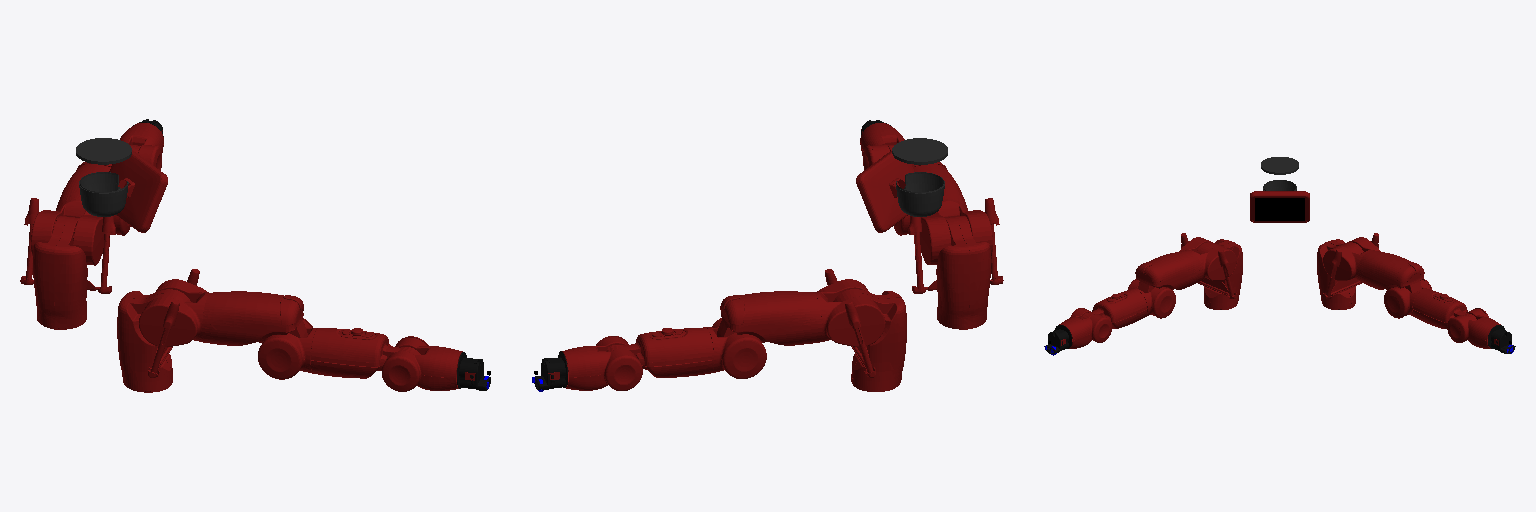
--- What the picture shows (computed from the rendered views, not written in the file) ---
The picture shows the robot from 3 angles, left to right: view 1: azimuth 30°, elevation 25°; view 2: azimuth 150°, elevation 25°; view 3: azimuth 270°, elevation 25°; orthographic projection.
Robot: baxter — 49 links, 48 joints (15 revolute, 33 fixed); root link base; default pose: every joint at zero.
Visible links, largest first — view 1: left_upper_shoulder, right_upper_elbow, right_upper_shoulder, right_upper_forearm, right_lower_forearm, right_lower_shoulder, screen, left_lower_shoulder, right_lower_elbow, head, sonar_ring, left_lower_forearm (+2 smaller); view 2: right_upper_shoulder, left_upper_elbow, left_upper_shoulder, left_upper_forearm, left_lower_forearm, left_lower_shoulder, screen, right_lower_shoulder, left_lower_elbow, head, sonar_ring, right_lower_forearm (+2 smaller); view 3: right_upper_elbow, left_upper_elbow, right_upper_shoulder, left_upper_shoulder, left_upper_forearm, right_upper_forearm, left_lower_forearm, right_lower_forearm, display, right_lower_shoulder, left_lower_shoulder, right_lower_elbow (+3 smaller).
Boxes of the visible links, x1,y1,x2,y2 form: left_upper_shoulder: [20, 198, 115, 329]; right_upper_elbow: [202, 291, 307, 345]; right_upper_shoulder: [117, 269, 199, 392]; right_upper_forearm: [311, 328, 420, 378]; right_lower_forearm: [382, 336, 462, 391]; right_lower_shoulder: [139, 279, 209, 347]; screen: [109, 150, 167, 232]; left_lower_shoulder: [31, 199, 104, 265]; right_lower_elbow: [258, 318, 317, 379]; head: [79, 172, 128, 216]; sonar_ring: [76, 138, 131, 164]; left_lower_forearm: [120, 123, 163, 170]; right_upper_shoulder: [908, 198, 1003, 329]; left_upper_elbow: [717, 291, 821, 345]; left_upper_shoulder: [825, 269, 906, 391]; left_upper_forearm: [604, 327, 713, 377]; left_lower_forearm: [562, 336, 642, 390]; left_lower_shoulder: [813, 279, 885, 346]; screen: [856, 151, 914, 232]; right_lower_shoulder: [920, 199, 992, 264]; left_lower_elbow: [706, 318, 766, 378]; head: [896, 172, 944, 216]; sonar_ring: [892, 138, 947, 164]; right_lower_forearm: [860, 123, 904, 169]; right_upper_elbow: [1135, 250, 1202, 292]; left_upper_elbow: [1357, 250, 1424, 292]; right_upper_shoulder: [1181, 233, 1242, 309]; left_upper_shoulder: [1317, 233, 1378, 309]; left_upper_forearm: [1412, 289, 1476, 328]; right_upper_forearm: [1080, 289, 1147, 328]; left_lower_forearm: [1447, 308, 1500, 348]; right_lower_forearm: [1059, 308, 1111, 348]; display: [1255, 198, 1304, 220]; right_lower_shoulder: [1179, 237, 1236, 280]; left_lower_shoulder: [1323, 237, 1380, 280]; right_lower_elbow: [1128, 279, 1175, 318].
Size in the robot's own frame: 0.8724 by 2.07 by 0.6706 metres.
16 mesh visuals loaded from 11 distinct referenced files (9 Collada DAE); not drawn: 2 (reference not matched to a file when rendering).

robot.urdf — baxter:
<?xml version="1.0" ?>
<!-- =================================================================================== -->
<!-- |    This document was autogenerated by xacro from baxter.urdf.xacro              | -->
<!-- |    EDITING THIS FILE BY HAND IS NOT RECOMMENDED                                 | -->
<!-- =================================================================================== -->
<robot name="baxter">
  <link name="base">
  </link>
  <link name="torso">
    <visual>
      <origin rpy="0 0 0" xyz="0 0 0"/>
      <geometry>
        <mesh filename="package://baxter_description/meshes/torso/base_link.DAE"/>
      </geometry>
    </visual>
    <collision>
      <origin rpy="0 0 0" xyz="0 0 0"/>
      <geometry>
        <mesh filename="package://baxter_description/meshes/torso/base_link_collision.DAE"/>
      </geometry>
    </collision>
    <inertial>
      <origin rpy="0 0 0" xyz="0.000000 0.000000 0.000000"/>
      <mass value="35.336455"/>
      <inertia ixx="1.849155" ixy="-0.000354" ixz="-0.154188" iyy="1.662671" iyz="0.003292" izz="0.802239"/>
    </inertial>
  </link>
  <link name="left_torso_itb">
    <!-- note: invisible -->
    <inertial>
      <origin rpy="0 0 0" xyz="0.000000 0.000000 0.000000"/>
      <mass value="0.0001"/>
      <inertia ixx="1e-08" ixy="0" ixz="0" iyy="1e-08" iyz="0" izz="1e-08"/>
    </inertial>
  </link>
  <link name="right_torso_itb">
    <!-- note: invisible -->
    <inertial>
      <origin rpy="0 0 0" xyz="0.000000 0.000000 0.000000"/>
      <mass value="0.0001"/>
      <inertia ixx="1e-08" ixy="0" ixz="0" iyy="1e-08" iyz="0" izz="1e-08"/>
    </inertial>
  </link>
  <link name="pedestal">
    <visual>
      <origin rpy="0 0 0" xyz="0 0 0"/>
      <geometry>
        <mesh filename="package://baxter_description/meshes/base/PEDESTAL.DAE"/>
      </geometry>
      <material name="darkgray">
        <color rgba=".2 .2 .2 1"/>
      </material>
    </visual>
    <collision>
      <origin rpy="0 0 0" xyz="0 0 0"/>
      <geometry>
        <mesh filename="package://baxter_description/meshes/base/pedestal_link_collision.DAE"/>
      </geometry>
    </collision>
    <inertial>
      <origin rpy="0 0 0" xyz="0 0 0"/>
      <mass value="60.86397744"/>
      <inertia ixx="5.0635929" ixy="0.00103417" ixz="0.80199628" iyy="6.08689388" iyz="0.00105311" izz="4.96191932"/>
    </inertial>
  </link>
  <link name="head">
    <visual>
      <origin rpy="0 0 0" xyz="0 0 .00953"/>
      <geometry>
        <mesh filename="package://baxter_description/meshes/head/H0.DAE"/>
      </geometry>
      <material name="darkgray">
        <color rgba=".2 .2 .2 1"/>
      </material>
    </visual>
    <collision>
      <origin rpy="0 0 0" xyz="0.0 0 0.0"/>
      <geometry>
        <sphere radius="0.001"/>
      </geometry>
    </collision>
    <inertial>
      <origin rpy="0 0 0" xyz="0 0 0"/>
      <mass value="0.547767"/>
      <inertia ixx="0.004641" ixy="0.000159" ixz="0.000242" iyy="0.003295" iyz="-0.001324" izz="0.003415"/>
    </inertial>
  </link>
  <link name="sonar_ring">
    <visual>
      <origin rpy="0 0 0" xyz="-.0347 0 .00953"/>
      <geometry>
        <cylinder length="0.01" radius="0.085"/>
      </geometry>
      <material name="darkgray">
        <color rgba=".2 .2 .2 1"/>
      </material>
    </visual>
    <collision>
      <origin rpy="0 0 0" xyz="0.0 0 0.0"/>
      <geometry>
        <sphere radius="0.001"/>
      </geometry>
    </collision>
    <inertial>
      <origin rpy="0 0 0" xyz="0 0 0"/>
      <mass value="0.0001"/>
      <inertia ixx="1e-08" ixy="0" ixz="0" iyy="1e-08" iyz="0" izz="1e-08"/>
    </inertial>
  </link>
  <link name="screen">
    <visual>
      <origin rpy="0 -1.57079632679 0" xyz="0 -.00953 -.0347"/>
      <geometry>
        <mesh filename="package://baxter_description/meshes/head/H1.DAE"/>
      </geometry>
      <material name="darkred">
        <color rgba=".5 .1 .1 1"/>
      </material>
    </visual>
    <collision>
      <origin rpy="0 0 0" xyz="0.0 0 0.0"/>
      <geometry>
        <sphere radius="0.001"/>
      </geometry>
    </collision>
    <inertial>
      <origin rpy="0 0 0" xyz="0 0 0"/>
      <mass value="0.440171"/>
      <inertia ixx="0.004006" ixy="0.000230" ixz="0.000002" iyy="0.002800" iyz="0.000029" izz="0.001509"/>
    </inertial>
  </link>
  <link name="display">
    <visual>
      <origin rpy="0.2617993877991494 0 0" xyz="0 0 0"/>
      <geometry>
        <box size="0.218 0.16 0.001"/>
      </geometry>
      <material name="black">
        <color rgba="0 0 0 1"/>
      </material>
    </visual>
    <inertial>
      <origin rpy="0 0 0" xyz="0 0 0"/>
      <mass value="0.0001"/>
      <inertia ixx="1e-08" ixy="0" ixz="0" iyy="1e-08" iyz="0" izz="1e-08"/>
    </inertial>
  </link>
  <link name="head_camera">
    <inertial>
      <origin rpy="0 0 0" xyz="0 0 0"/>
      <mass value="0.0001"/>
      <inertia ixx="1e-08" ixy="0" ixz="0" iyy="1e-08" iyz="0" izz="1e-08"/>
    </inertial>
  </link>
  <link name="dummyhead1">
    <inertial>
      <origin rpy="0 0 0" xyz="0 0 0"/>
      <mass value="0.0001"/>
      <inertia ixx="1e-08" ixy="0" ixz="0" iyy="1e-08" iyz="0" izz="1e-08"/>
    </inertial>
  </link>
  <link name="collision_head_link_1">
    <visual>
      <origin rpy="0 0 0" xyz="0 0 0"/>
      <geometry>
        <sphere radius="0.001"/>
      </geometry>
      <material name="red">
        <color rgba="0.8 0.3 0.3 0.3"/>
      </material>
    </visual>
    <collision>
      <origin rpy="0 0 0.0" xyz="-0.07 -0.04 0.0"/>
      <geometry>
        <sphere radius="0.22"/>
      </geometry>
    </collision>
    <inertial>
      <origin rpy="0 0 0" xyz="0 0 0"/>
      <mass value="0.0001"/>
      <inertia ixx="1e-08" ixy="0" ixz="0" iyy="1e-08" iyz="0" izz="1e-08"/>
    </inertial>
  </link>
  <link name="collision_head_link_2">
    <visual>
      <origin rpy="0 0 0" xyz="0 0 0"/>
      <geometry>
        <sphere radius="0.001"/>
      </geometry>
      <material name="red">
        <color rgba="0.8 0.3 0.3 0.3"/>
      </material>
    </visual>
    <collision>
      <origin rpy="0 0 0" xyz="-0.07 0.04 0.00"/>
      <geometry>
        <sphere radius="0.22"/>
      </geometry>
    </collision>
    <inertial>
      <origin rpy="0 0 0" xyz="0 0 0"/>
      <mass value="0.0001"/>
      <inertia ixx="1e-08" ixy="0" ixz="0" iyy="1e-08" iyz="0" izz="1e-08"/>
    </inertial>
  </link>
  <joint name="collision_head_1" type="fixed">
    <origin rpy="0 0 0" xyz="0.11 0 0.75"/>
    <parent link="base"/>
    <child link="collision_head_link_1"/>
  </joint>
  <joint name="collision_head_2" type="fixed">
    <origin rpy="0 0 0" xyz="0.11 0 0.75"/>
    <parent link="base"/>
    <child link="collision_head_link_2"/>
  </joint>
  <joint name="dummy" type="fixed">
    <origin rpy="0 0 0" xyz="0 0 0"/>
    <parent link="head"/>
    <child link="dummyhead1"/>
  </joint>
  <joint name="torso_t0" type="fixed">
    <origin rpy="0 0 0" xyz="0 0 0"/>
    <parent link="base"/>
    <child link="torso"/>
    <limit effort="50000" lower="-3.01" upper="3.01" velocity="10000"/>
  </joint>
  <joint name="left_torso_itb_fixed" type="fixed">
    <origin rpy="-1.57079632679 3.1415 0" xyz="-0.08897 0.15593 0.389125"/>
    <parent link="torso"/>
    <child link="left_torso_itb"/>
  </joint>
  <joint name="right_torso_itb_fixed" type="fixed">
    <origin rpy="1.57079632679 0 0" xyz="-0.08897 -0.15593 0.389125"/>
    <parent link="torso"/>
    <child link="right_torso_itb"/>
  </joint>
  <joint name="pedestal_fixed" type="fixed">
    <origin rpy="0 0 0" xyz="0.0 0.0 0.0"/>
    <parent link="torso"/>
    <child link="pedestal"/>
  </joint>
  <joint name="head_pan" type="revolute">
    <origin rpy="0 0 0" xyz="0.06 0 0.686"/>
    <axis xyz="0 0 1"/>
    <parent link="torso"/>
    <child link="head"/>
    <limit effort="50000" lower="-1.57079632679" upper="1.57079632679" velocity="10000"/>
    <dynamics damping="0.7" friction="0.0"/>
  </joint>
  <joint name="head_nod" type="fixed">
    <origin rpy="1.75057 0 1.57079632679" xyz=".1227 0 0"/>
    <parent link="head"/>
    <child link="screen"/>
  </joint>
  <joint name="head_camera" type="fixed">
    <origin rpy="1.75057 0 1.57079632679" xyz="0.12839 0 0.06368"/>
    <parent link="head"/>
    <child link="head_camera"/>
  </joint>
  <joint name="display_joint" type="fixed">
    <origin rpy="0 0 0" xyz="0.0 -0.016 0.0"/>
    <parent link="screen"/>
    <child link="display"/>
  </joint>
  <joint name="sonar_s0" type="fixed">
    <origin rpy="0 0 0" xyz="0.0947 0 .817"/>
    <axis xyz="0 0 1"/>
    <parent link="torso"/>
    <child link="sonar_ring"/>
  </joint>
  <link name="right_arm_mount">
    <!-- all defaults -->
    <inertial>
      <origin rpy="0 0 0" xyz="0 0 0"/>
      <mass value="0.0001"/>
      <inertia ixx="1e-08" ixy="0" ixz="0" iyy="1e-08" iyz="0" izz="1e-08"/>
    </inertial>
  </link>
  <link name="right_upper_shoulder">
    <visual>
      <origin rpy="0 0 0" xyz="0 0 0"/>
      <geometry>
        <mesh filename="package://baxter_description/meshes/upper_shoulder/S0.DAE"/>
      </geometry>
      <material name="darkred">
        <color rgba=".5 .1 .1 1"/>
      </material>
    </visual>
    <collision>
      <origin rpy="0 0 0" xyz="0 0 0.1361"/>
      <geometry>
        <cylinder length="0.2722" radius="0.06"/>
      </geometry>
    </collision>
    <inertial>
      <origin rpy="0 0 0" xyz="0.01783 0.00086 0.19127"/>
      <mass value="5.70044"/>
      <inertia ixx="0.04709102262" ixy="0.00012787556" ixz="0.00614870039" iyy="0.03766976455" iyz="0.00078086899" izz="0.03595988478"/>
    </inertial>
  </link>
  <link name="right_lower_shoulder">
    <visual>
      <origin rpy="0 0 0" xyz="0 0 0"/>
      <geometry>
        <mesh filename="package://baxter_description/meshes/lower_shoulder/S1.DAE"/>
      </geometry>
      <material name="darkred">
        <color rgba=".5 .1 .1 1"/>
      </material>
    </visual>
    <collision>
      <origin rpy="0 0 0" xyz="0 0 0"/>
      <geometry>
        <cylinder length="0.12" radius="0.06"/>
      </geometry>
    </collision>
    <inertial>
      <origin rpy="0 0 0" xyz="0.06845 0.00269 -0.00529"/>
      <mass value="3.22698"/>
      <inertia ixx="0.01175209419" ixy="-0.00030096398" ixz="0.00207675762" iyy="0.0278859752" iyz="-0.00018821993" izz="0.02078749298"/>
    </inertial>
  </link>
  <link name="right_upper_elbow">
    <visual>
      <origin rpy="0 0 0" xyz="0 0 0"/>
      <geometry>
        <mesh filename="package://baxter_description/meshes/upper_elbow/E0.DAE"/>
      </geometry>
      <material name="darkred">
        <color rgba=".5 .1 .1 1"/>
      </material>
    </visual>
    <collision>
      <origin rpy="0 0 0" xyz="0 0 -0.0535"/>
      <geometry>
        <cylinder length="0.107" radius="0.06"/>
      </geometry>
    </collision>
    <inertial>
      <origin rpy="0 0 0" xyz="-0.00276 0.00132 0.18086"/>
      <mass value="4.31272"/>
      <inertia ixx="0.02661733557" ixy="0.00029270634" ixz="0.00392189887" iyy="0.02844355207" iyz="0.0010838933" izz="0.01248008322"/>
    </inertial>
  </link>
  <link name="right_upper_elbow_visual">
    <collision>
      <origin rpy="0 0 0" xyz="0 0 0.1365"/>
      <geometry>
        <cylinder length="0.273" radius="0.06"/>
      </geometry>
    </collision>
    <inertial>
      <origin rpy="0 0 0" xyz="0 0 0"/>
      <mass value="0.0001"/>
      <inertia ixx="1e-08" ixy="0" ixz="0" iyy="1e-08" iyz="0" izz="1e-08"/>
    </inertial>
  </link>
  <link name="right_lower_elbow">
    <visual>
      <origin rpy="0 0 0" xyz="0 0 0"/>
      <geometry>
        <mesh filename="package://baxter_description/meshes/lower_elbow/E1.DAE"/>
      </geometry>
      <material name="darkred">
        <color rgba=".5 .1 .1 1"/>
      </material>
    </visual>
    <collision>
      <origin rpy="0 0 0" xyz="0.0 0.0 0.0"/>
      <geometry>
        <cylinder length="0.10" radius="0.06"/>
      </geometry>
    </collision>
    <inertial>
      <origin rpy="0 0 0" xyz="0.02611 0.00159 -0.01117"/>
      <mass value="2.07206"/>
      <inertia ixx="0.00711582686" ixy="0.00036036173" ixz="0.0007459496" iyy="0.01318227876" iyz="-0.00019663418" izz="0.00926852064"/>
    </inertial>
  </link>
  <link name="right_upper_forearm">
    <visual>
      <origin rpy="0 0 0" xyz="0 0 0"/>
      <geometry>
        <mesh filename="package://baxter_description/meshes/upper_forearm/W0.DAE"/>
      </geometry>
      <material name="darkred">
        <color rgba=".5 .1 .1 1"/>
      </material>
    </visual>
    <collision>
      <origin rpy="0 0 0" xyz="0 0 -0.044"/>
      <geometry>
        <cylinder length="0.088" radius="0.06"/>
      </geometry>
    </collision>
    <inertial>
      <origin rpy="0 0 0" xyz="-0.00168 0.0046 0.13952"/>
      <mass value="2.24665"/>
      <inertia ixx="0.01667742825" ixy="0.00018403705" ixz="0.00018657629" iyy="0.01675457264" iyz="-0.00064732352" izz="0.0037463115"/>
    </inertial>
  </link>
  <link name="right_upper_forearm_visual">
    <collision>
      <origin rpy="0 0 0" xyz="0 0 0.136"/>
      <geometry>
        <cylinder length="0.272" radius="0.06"/>
      </geometry>
    </collision>
    <inertial>
      <origin rpy="0 0 0" xyz="0 0 0"/>
      <mass value="0.0001"/>
      <inertia ixx="1e-08" ixy="0" ixz="0" iyy="1e-08" iyz="0" izz="1e-08"/>
    </inertial>
  </link>
  <link name="right_arm_itb">
    <!-- note: invisible -->
    <inertial>
      <origin rpy="0 0 0" xyz="0.000000 0.000000 0.000000"/>
      <mass value="0.0001"/>
      <inertia ixx="1e-08" ixy="0" ixz="0" iyy="1e-08" iyz="0" izz="1e-08"/>
    </inertial>
  </link>
  <link name="right_lower_forearm">
    <visual>
      <origin rpy="0 0 0" xyz="0 0 0"/>
      <geometry>
        <mesh filename="package://baxter_description/meshes/lower_forearm/W1.DAE"/>
      </geometry>
      <material name="darkred">
        <color rgba=".5 .1 .1 1"/>
      </material>
    </visual>
    <collision>
      <origin rpy="0 0 0" xyz="0 0 0"/>
      <geometry>
        <cylinder length="0.10" radius="0.06"/>
      </geometry>
    </collision>
    <inertial>
      <origin rpy="0 0 0" xyz="0.06041 0.00697 0.006"/>
      <mass value="1.60979"/>
      <inertia ixx="0.00387607152" ixy="-0.00044384784" ixz="-0.00021115038" iyy="0.00700537914" iyz="0.00015348067" izz="0.0055275524"/>
    </inertial>
  </link>
  <link name="right_wrist">
    <visual>
      <origin rpy="0 0 0" xyz="0 0 0"/>
      <geometry>
        <mesh filename="package://baxter_description/meshes/wrist/W2.DAE"/>
      </geometry>
      <material name="lightgrey">
        <color rgba=".1 .1 .1 1"/>
      </material>
    </visual>
    <collision>
      <origin rpy="0 0 0" xyz="0 0 0"/>
      <geometry>
        <cylinder length="0.165" radius="0.06"/>
      </geometry>
    </collision>
    <inertial>
      <origin rpy="0 0 0" xyz="0.00198 0.00125 0.01855"/>
      <mass value="0.35093"/>
      <inertia ixx="0.00025289155" ixy="0.00000575311" ixz="-0.00000159345" iyy="0.0002688601" iyz="-0.00000519818" izz="0.0003074118"/>
    </inertial>
  </link>
  <link name="right_hand">
    <collision>
      <origin rpy="0 0 0" xyz="0 0 -0.0232"/>
      <geometry>
        <cylinder length="0.0464" radius="0.04"/>
      </geometry>
    </collision>
    <inertial>
      <origin rpy="0 0 0" xyz="0.01093 0.00042 -0.01532"/>
      <mass value="0.19125"/>
      <inertia ixx="0.00017588" ixy="0.00000147073" ixz="0.0000243633" iyy="0.00021166377" iyz="0.00000172689" izz="0.00023745397"/>
    </inertial>
  </link>
  <link name="right_hand_camera">
    <visual>
      <origin rpy="0 0 0" xyz="0 0 0"/>
      <geometry>
        <cylinder length="0.01" radius="0.02"/>
      </geometry>
      <material name="blue">
        <color rgba="0 0 1 0.8"/>
      </material>
    </visual>
    <inertial>
      <origin rpy="0 0 0" xyz="0 0 0"/>
      <mass value="0.0001"/>
      <inertia ixx="1e-08" ixy="0" ixz="0" iyy="1e-08" iyz="0" izz="1e-08"/>
    </inertial>
  </link>
  <link name="right_hand_camera_axis">
    <inertial>
      <origin rpy="0 0 0" xyz="0 0 0"/>
      <mass value="0.0001"/>
      <inertia ixx="1e-08" ixy="0" ixz="0" iyy="1e-08" iyz="0" izz="1e-08"/>
    </inertial>
  </link>
  <link name="right_hand_range">
    <visual>
      <origin rpy="0 0 0" xyz="0 0 0"/>
      <geometry>
        <box size="0.005 .02 .005"/>
      </geometry>
      <material name="blue">
        <color rgba="0 0 1 0.8"/>
      </material>
    </visual>
    <inertial>
      <origin rpy="0 0 0" xyz="0 0 0"/>
      <mass value="0.0001"/>
      <inertia ixx="1e-08" ixy="0" ixz="0" iyy="1e-08" iyz="0" izz="1e-08"/>
    </inertial>
  </link>
  <link name="right_hand_accelerometer">
    <visual>
      <origin rpy="0 0 0" xyz="0 0 0"/>
      <geometry>
        <box size="0.01 0.01 0.01"/>
      </geometry>
      <material name="black">
        <color rgba="0 0 0 1"/>
      </material>
    </visual>
    <inertial>
      <origin rpy="0 0 0" xyz="0.000000 0.000000 0.000000"/>
      <mass value="0.0001"/>
      <inertia ixx="1e-08" ixy="0" ixz="0" iyy="1e-08" iyz="0" izz="1e-08"/>
    </inertial>
  </link>
  <link name="right_gripper_base">
    <visual>
      <origin rpy="0 0 0" xyz="0 0 -0.02"/>
      <geometry>
        <box size="0.025 0.075 0.035"/>
      </geometry>
      <material name="darkred">
        <color rgba=".5 .1 .1 1"/>
      </material>
    </visual>
    <inertial>
      <origin rpy="0 0 0" xyz="0.000000 0.000000 0.000000"/>
      <mass value="0.0001"/>
      <inertia ixx="1e-08" ixy="0" ixz="0" iyy="1e-08" iyz="0" izz="1e-08"/>
    </inertial>
  </link>
  <link name="right_gripper">
    <visual>
      <origin rpy="0 0 0" xyz="0 0 0"/>
      <geometry>
        <box size="0.01 0.01 0.01"/>
      </geometry>
      <material name="black">
        <color rgba="0 0 0 1"/>
      </material>
    </visual>
    <inertial>
      <origin rpy="0 0 0" xyz="0.000000 0.000000 0.000000"/>
      <mass value="0.0001"/>
      <inertia ixx="1e-08" ixy="0" ixz="0" iyy="1e-08" iyz="0" izz="1e-08"/>
    </inertial>
  </link>
  <joint name="right_torso_arm_mount" type="fixed">
    <origin rpy="0 0 -0.7854" xyz="0.024645 -0.219645 0.118588"/>
    <parent link="torso"/>
    <child link="right_arm_mount"/>
  </joint>
  <joint name="right_s0" type="revolute">
    <origin rpy="0 0 0" xyz="0.055695 0 0.011038"/>
    <axis xyz="0 0 1"/>
    <parent link="right_arm_mount"/>
    <child link="right_upper_shoulder"/>
    <limit effort="50.0" lower="-1.70167993878" upper="1.70167993878" velocity="1.5"/>
    <dynamics damping="0.7" friction="0.0"/>
  </joint>
  <joint name="right_s1" type="revolute">
    <origin rpy="-1.57079632679 0 0" xyz="0.069 0 0.27035"/>
    <axis xyz="0 0 1"/>
    <parent link="right_upper_shoulder"/>
    <child link="right_lower_shoulder"/>
    <limit effort="50.0" lower="-2.147" upper="1.047" velocity="1.5"/>
    <dynamics damping="0.7" friction="0.0"/>
  </joint>
  <joint name="right_e0" type="revolute">
    <origin rpy="1.57079632679 0 1.57079632679" xyz="0.102 0 0"/>
    <axis xyz="0 0 1"/>
    <parent link="right_lower_shoulder"/>
    <child link="right_upper_elbow"/>
    <limit effort="50.0" lower="-3.05417993878" upper="3.05417993878" velocity="1.5"/>
    <dynamics damping="0.7" friction="0.0"/>
  </joint>
  <joint name="right_e0_fixed" type="fixed">
    <origin rpy="1.57079632679 0 1.57079632679" xyz="0.107 0 0"/>
    <axis xyz="0 0 1"/>
    <parent link="right_lower_shoulder"/>
    <child link="right_upper_elbow_visual"/>
  </joint>
  <joint name="right_e1" type="revolute">
    <origin rpy="-1.57079632679 -1.57079632679 0" xyz="0.069 0 0.26242"/>
    <axis xyz="0 0 1"/>
    <parent link="right_upper_elbow"/>
    <child link="right_lower_elbow"/>
    <limit effort="50.0" lower="-0.05" upper="2.618" velocity="1.5"/>
    <dynamics damping="0.7" friction="0.0"/>
  </joint>
  <joint name="right_w0" type="revolute">
    <origin rpy="1.57079632679 0 1.57079632679" xyz="0.10359 0 0"/>
    <axis xyz="0 0 1"/>
    <parent link="right_lower_elbow"/>
    <child link="right_upper_forearm"/>
    <limit effort="15.0" lower="-3.059" upper="3.059" velocity="4.0"/>
    <dynamics damping="0.7" friction="0.0"/>
  </joint>
  <joint name="right_w0_fixed" type="fixed">
    <origin rpy="1.57079632679 0 1.57079632679" xyz="0.088 0 0"/>
    <axis xyz="0 0 1"/>
    <parent link="right_lower_elbow"/>
    <child link="right_upper_forearm_visual"/>
  </joint>
  <joint name="right_w0_to_itb_fixed" type="fixed">
    <origin rpy="-1.57079632679 0 1.57079632679" xyz="-0.0565 0 0.12"/>
    <axis xyz="0 0 1"/>
    <parent link="right_upper_forearm"/>
    <child link="right_arm_itb"/>
  </joint>
  <joint name="right_w1" type="revolute">
    <origin rpy="-1.57079632679 -1.57079632679 0" xyz="0.01 0 0.2707"/>
    <axis xyz="0 0 1"/>
    <parent link="right_upper_forearm"/>
    <child link="right_lower_forearm"/>
    <limit effort="15.0" lower="-1.57079632679" upper="2.094" velocity="4.0"/>
    <dynamics damping="0.7" friction="0.0"/>
  </joint>
  <joint name="right_w2" type="revolute">
    <origin rpy="1.57079632679 0 1.57079632679" xyz="0.115975 0 0"/>
    <axis xyz="0 0 1"/>
    <parent link="right_lower_forearm"/>
    <child link="right_wrist"/>
    <limit effort="15.0" lower="-3.059" upper="3.059" velocity="4.0"/>
    <dynamics damping="0.7" friction="0.0"/>
  </joint>
  <joint name="right_hand" type="fixed">
    <origin rpy="0 0 0" xyz="0 0 0.11355"/>
    <axis xyz="0 0 1"/>
    <parent link="right_wrist"/>
    <child link="right_hand"/>
    <dynamics damping="0.7" friction="0.0"/>
  </joint>
  <joint name="right_hand_camera" type="fixed">
    <origin rpy="0 0 -1.57079633" xyz="0.03825 0.012 0.015355"/>
    <parent link="right_hand"/>
    <child link="right_hand_camera"/>
  </joint>
  <joint name="right_hand_camera_axis" type="fixed">
    <origin rpy="0 0 0" xyz="0.03825 0.012 0.015355"/>
    <parent link="right_hand"/>
    <child link="right_hand_camera_axis"/>
  </joint>
  <joint name="right_hand_range" type="fixed">
    <origin rpy="0 -1.57079632679 -1.57079632679" xyz="0.032 -0.020245 0.0288"/>
    <parent link="right_hand"/>
    <child link="right_hand_range"/>
  </joint>
  <joint name="right_hand_accelerometer" type="fixed">
    <origin rpy="0 0 0" xyz="0.00198 0.000133 -0.0146"/>
    <parent link="right_hand"/>
    <child link="right_hand_accelerometer"/>
  </joint>
  <joint name="right_gripper_base" type="fixed">
    <origin rpy="0 0 0" xyz="0 0 0"/>
    <parent link="right_hand"/>
    <child link="right_gripper_base"/>
  </joint>
  <joint name="right_endpoint" type="fixed">
    <origin rpy="0 0 0" xyz="0.0 0 0.025"/>
    <parent link="right_gripper_base"/>
    <child link="right_gripper"/>
  </joint>
  <link name="left_arm_mount">
    <!-- all defaults -->
    <inertial>
      <origin rpy="0 0 0" xyz="0 0 0"/>
      <mass value="0.0001"/>
      <inertia ixx="1e-08" ixy="0" ixz="0" iyy="1e-08" iyz="0" izz="1e-08"/>
    </inertial>
  </link>
  <link name="left_upper_shoulder">
    <visual>
      <origin rpy="0 0 0" xyz="0 0 0"/>
      <geometry>
        <mesh filename="package://baxter_description/meshes/upper_shoulder/S0.DAE"/>
      </geometry>
      <material name="darkred">
        <color rgba=".5 .1 .1 1"/>
      </material>
    </visual>
    <collision>
      <origin rpy="0 0 0" xyz="0 0 0.1361"/>
      <geometry>
        <cylinder length="0.2722" radius="0.06"/>
      </geometry>
    </collision>
    <inertial>
      <origin rpy="0 0 0" xyz="0.01783 0.00086 0.19127"/>
      <mass value="5.70044"/>
      <inertia ixx="0.04709102262" ixy="0.00012787556" ixz="0.00614870039" iyy="0.03766976455" iyz="0.00078086899" izz="0.03595988478"/>
    </inertial>
  </link>
  <link name="left_lower_shoulder">
    <visual>
      <origin rpy="0 0 0" xyz="0 0 0"/>
      <geometry>
        <mesh filename="package://baxter_description/meshes/lower_shoulder/S1.DAE"/>
      </geometry>
      <material name="darkred">
        <color rgba=".5 .1 .1 1"/>
      </material>
    </visual>
    <collision>
      <origin rpy="0 0 0" xyz="0 0 0"/>
      <geometry>
        <cylinder length="0.12" radius="0.06"/>
      </geometry>
    </collision>
    <inertial>
      <origin rpy="0 0 0" xyz="0.06845 0.00269 -0.00529"/>
      <mass value="3.22698"/>
      <inertia ixx="0.01175209419" ixy="-0.00030096398" ixz="0.00207675762" iyy="0.0278859752" iyz="-0.00018821993" izz="0.02078749298"/>
    </inertial>
  </link>
  <link name="left_upper_elbow">
    <visual>
      <origin rpy="0 0 0" xyz="0 0 0"/>
      <geometry>
        <mesh filename="package://baxter_description/meshes/upper_elbow/E0.DAE"/>
      </geometry>
      <material name="darkred">
        <color rgba=".5 .1 .1 1"/>
      </material>
    </visual>
    <collision>
      <origin rpy="0 0 0" xyz="0 0 -0.0535"/>
      <geometry>
        <cylinder length="0.107" radius="0.06"/>
      </geometry>
    </collision>
    <inertial>
      <origin rpy="0 0 0" xyz="-0.00276 0.00132 0.18086"/>
      <mass value="4.31272"/>
      <inertia ixx="0.02661733557" ixy="0.00029270634" ixz="0.00392189887" iyy="0.02844355207" iyz="0.0010838933" izz="0.01248008322"/>
    </inertial>
  </link>
  <link name="left_upper_elbow_visual">
    <collision>
      <origin rpy="0 0 0" xyz="0 0 0.1365"/>
      <geometry>
        <cylinder length="0.273" radius="0.06"/>
      </geometry>
    </collision>
    <inertial>
      <origin rpy="0 0 0" xyz="0 0 0"/>
      <mass value="0.0001"/>
      <inertia ixx="1e-08" ixy="0" ixz="0" iyy="1e-08" iyz="0" izz="1e-08"/>
    </inertial>
  </link>
  <link name="left_lower_elbow">
    <visual>
      <origin rpy="0 0 0" xyz="0 0 0"/>
      <geometry>
        <mesh filename="package://baxter_description/meshes/lower_elbow/E1.DAE"/>
      </geometry>
      <material name="darkred">
        <color rgba=".5 .1 .1 1"/>
      </material>
    </visual>
    <collision>
      <origin rpy="0 0 0" xyz="0.0 0.0 0.0"/>
      <geometry>
        <cylinder length="0.10" radius="0.06"/>
      </geometry>
    </collision>
    <inertial>
      <origin rpy="0 0 0" xyz="0.02611 0.00159 -0.01117"/>
      <mass value="2.07206"/>
      <inertia ixx="0.00711582686" ixy="0.00036036173" ixz="0.0007459496" iyy="0.01318227876" iyz="-0.00019663418" izz="0.00926852064"/>
    </inertial>
  </link>
  <link name="left_upper_forearm">
    <visual>
      <origin rpy="0 0 0" xyz="0 0 0"/>
      <geometry>
        <mesh filename="package://baxter_description/meshes/upper_forearm/W0.DAE"/>
      </geometry>
      <material name="darkred">
        <color rgba=".5 .1 .1 1"/>
      </material>
    </visual>
    <collision>
      <origin rpy="0 0 0" xyz="0 0 -0.044"/>
      <geometry>
        <cylinder length="0.088" radius="0.06"/>
      </geometry>
    </collision>
    <inertial>
      <origin rpy="0 0 0" xyz="-0.00168 0.0046 0.13952"/>
      <mass value="2.24665"/>
      <inertia ixx="0.01667742825" ixy="0.00018403705" ixz="0.00018657629" iyy="0.01675457264" iyz="-0.00064732352" izz="0.0037463115"/>
    </inertial>
  </link>
  <link name="left_upper_forearm_visual">
    <collision>
      <origin rpy="0 0 0" xyz="0 0 0.136"/>
      <geometry>
        <cylinder length="0.272" radius="0.06"/>
      </geometry>
    </collision>
    <inertial>
      <origin rpy="0 0 0" xyz="0 0 0"/>
      <mass value="0.0001"/>
      <inertia ixx="1e-08" ixy="0" ixz="0" iyy="1e-08" iyz="0" izz="1e-08"/>
    </inertial>
  </link>
  <link name="left_arm_itb">
    <!-- note: invisible -->
    <inertial>
      <origin rpy="0 0 0" xyz="0.000000 0.000000 0.000000"/>
      <mass value="0.0001"/>
      <inertia ixx="1e-08" ixy="0" ixz="0" iyy="1e-08" iyz="0" izz="1e-08"/>
    </inertial>
  </link>
  <link name="left_lower_forearm">
    <visual>
      <origin rpy="0 0 0" xyz="0 0 0"/>
      <geometry>
        <mesh filename="package://baxter_description/meshes/lower_forearm/W1.DAE"/>
      </geometry>
      <material name="darkred">
        <color rgba=".5 .1 .1 1"/>
      </material>
    </visual>
    <collision>
      <origin rpy="0 0 0" xyz="0 0 0"/>
      <geometry>
        <cylinder length="0.10" radius="0.06"/>
      </geometry>
    </collision>
    <inertial>
      <origin rpy="0 0 0" xyz="0.06041 0.00697 0.006"/>
      <mass value="1.60979"/>
      <inertia ixx="0.00387607152" ixy="-0.00044384784" ixz="-0.00021115038" iyy="0.00700537914" iyz="0.00015348067" izz="0.0055275524"/>
    </inertial>
  </link>
  <link name="left_wrist">
    <visual>
      <origin rpy="0 0 0" xyz="0 0 0"/>
      <geometry>
        <mesh filename="package://baxter_description/meshes/wrist/W2.DAE"/>
      </geometry>
      <material name="lightgrey">
        <color rgba=".1 .1 .1 1"/>
      </material>
    </visual>
    <collision>
      <origin rpy="0 0 0" xyz="0 0 0"/>
      <geometry>
        <cylinder length="0.165" radius="0.06"/>
      </geometry>
    </collision>
    <inertial>
      <origin rpy="0 0 0" xyz="0.00198 0.00125 0.01855"/>
      <mass value="0.35093"/>
      <inertia ixx="0.00025289155" ixy="0.00000575311" ixz="-0.00000159345" iyy="0.0002688601" iyz="-0.00000519818" izz="0.0003074118"/>
    </inertial>
  </link>
  <link name="left_hand">
    <collision>
      <origin rpy="0 0 0" xyz="0 0 -0.0232"/>
      <geometry>
        <cylinder length="0.0464" radius="0.04"/>
      </geometry>
    </collision>
    <inertial>
      <origin rpy="0 0 0" xyz="0.01093 0.00042 -0.01532"/>
      <mass value="0.19125"/>
      <inertia ixx="0.00017588" ixy="0.00000147073" ixz="0.0000243633" iyy="0.00021166377" iyz="0.00000172689" izz="0.00023745397"/>
    </inertial>
  </link>
  <link name="left_hand_camera">
    <visual>
      <origin rpy="0 0 0" xyz="0 0 0"/>
      <geometry>
        <cylinder length="0.01" radius="0.02"/>
      </geometry>
      <material name="blue">
        <color rgba="0 0 1 0.8"/>
      </material>
    </visual>
    <inertial>
      <origin rpy="0 0 0" xyz="0 0 0"/>
      <mass value="0.0001"/>
      <inertia ixx="1e-08" ixy="0" ixz="0" iyy="1e-08" iyz="0" izz="1e-08"/>
    </inertial>
  </link>
  <link name="left_hand_camera_axis">
    <inertial>
      <origin rpy="0 0 0" xyz="0 0 0"/>
      <mass value="0.0001"/>
      <inertia ixx="1e-08" ixy="0" ixz="0" iyy="1e-08" iyz="0" izz="1e-08"/>
    </inertial>
  </link>
  <link name="left_hand_range">
    <visual>
      <origin rpy="0 0 0" xyz="0 0 0"/>
      <geometry>
        <box size="0.005 .02 .005"/>
      </geometry>
      <material name="blue">
        <color rgba="0 0 1 0.8"/>
      </material>
    </visual>
    <inertial>
      <origin rpy="0 0 0" xyz="0 0 0"/>
      <mass value="0.0001"/>
      <inertia ixx="1e-08" ixy="0" ixz="0" iyy="1e-08" iyz="0" izz="1e-08"/>
    </inertial>
  </link>
  <link name="left_hand_accelerometer">
    <visual>
      <origin rpy="0 0 0" xyz="0 0 0"/>
      <geometry>
        <box size="0.01 0.01 0.01"/>
      </geometry>
      <material name="black">
        <color rgba="0 0 0 1"/>
      </material>
    </visual>
    <inertial>
      <origin rpy="0 0 0" xyz="0.000000 0.000000 0.000000"/>
      <mass value="0.0001"/>
      <inertia ixx="1e-08" ixy="0" ixz="0" iyy="1e-08" iyz="0" izz="1e-08"/>
    </inertial>
  </link>
  <link name="left_gripper_base">
    <visual>
      <origin rpy="0 0 0" xyz="0 0 -0.02"/>
      <geometry>
        <box size="0.025 0.075 0.035"/>
      </geometry>
      <material name="darkred">
        <color rgba=".5 .1 .1 1"/>
      </material>
    </visual>
    <inertial>
      <origin rpy="0 0 0" xyz="0.000000 0.000000 0.000000"/>
      <mass value="0.0001"/>
      <inertia ixx="1e-08" ixy="0" ixz="0" iyy="1e-08" iyz="0" izz="1e-08"/>
    </inertial>
  </link>
  <link name="left_gripper">
    <visual>
      <origin rpy="0 0 0" xyz="0 0 0"/>
      <geometry>
        <box size="0.01 0.01 0.01"/>
      </geometry>
      <material name="black">
        <color rgba="0 0 0 1"/>
      </material>
    </visual>
    <inertial>
      <origin rpy="0 0 0" xyz="0.000000 0.000000 0.000000"/>
      <mass value="0.0001"/>
      <inertia ixx="1e-08" ixy="0" ixz="0" iyy="1e-08" iyz="0" izz="1e-08"/>
    </inertial>
  </link>
  <joint name="left_torso_arm_mount" type="fixed">
    <origin rpy="0 0 0.7854" xyz="0.024645 0.219645 0.118588"/>
    <parent link="torso"/>
    <child link="left_arm_mount"/>
  </joint>
  <joint name="left_s0" type="revolute">
    <origin rpy="0 0 0" xyz="0.055695 0 0.011038"/>
    <axis xyz="0 0 1"/>
    <parent link="left_arm_mount"/>
    <child link="left_upper_shoulder"/>
    <limit effort="50.0" lower="-1.70167993878" upper="1.70167993878" velocity="1.5"/>
    <dynamics damping="0.7" friction="0.0"/>
  </joint>
  <joint name="left_s1" type="revolute">
    <origin rpy="-1.57079632679 0 0" xyz="0.069 0 0.27035"/>
    <axis xyz="0 0 1"/>
    <parent link="left_upper_shoulder"/>
    <child link="left_lower_shoulder"/>
    <limit effort="50.0" lower="-2.147" upper="1.047" velocity="1.5"/>
    <dynamics damping="0.7" friction="0.0"/>
  </joint>
  <joint name="left_e0" type="revolute">
    <origin rpy="1.57079632679 0 1.57079632679" xyz="0.102 0 0"/>
    <axis xyz="0 0 1"/>
    <parent link="left_lower_shoulder"/>
    <child link="left_upper_elbow"/>
    <limit effort="50.0" lower="-3.05417993878" upper="3.05417993878" velocity="1.5"/>
    <dynamics damping="0.7" friction="0.0"/>
  </joint>
  <joint name="left_e0_fixed" type="fixed">
    <origin rpy="1.57079632679 0 1.57079632679" xyz="0.107 0 0"/>
    <axis xyz="0 0 1"/>
    <parent link="left_lower_shoulder"/>
    <child link="left_upper_elbow_visual"/>
  </joint>
  <joint name="left_e1" type="revolute">
    <origin rpy="-1.57079632679 -1.57079632679 0" xyz="0.069 0 0.26242"/>
    <axis xyz="0 0 1"/>
    <parent link="left_upper_elbow"/>
    <child link="left_lower_elbow"/>
    <limit effort="50.0" lower="-0.05" upper="2.618" velocity="1.5"/>
    <dynamics damping="0.7" friction="0.0"/>
  </joint>
  <joint name="left_w0" type="revolute">
    <origin rpy="1.57079632679 0 1.57079632679" xyz="0.10359 0 0"/>
    <axis xyz="0 0 1"/>
    <parent link="left_lower_elbow"/>
    <child link="left_upper_forearm"/>
    <limit effort="15.0" lower="-3.059" upper="3.059" velocity="4.0"/>
    <dynamics damping="0.7" friction="0.0"/>
  </joint>
  <joint name="left_w0_fixed" type="fixed">
    <origin rpy="1.57079632679 0 1.57079632679" xyz="0.088 0 0"/>
    <axis xyz="0 0 1"/>
    <parent link="left_lower_elbow"/>
    <child link="left_upper_forearm_visual"/>
  </joint>
  <joint name="left_w0_to_itb_fixed" type="fixed">
    <origin rpy="-1.57079632679 0 1.57079632679" xyz="-0.0565 0 0.12"/>
    <axis xyz="0 0 1"/>
    <parent link="left_upper_forearm"/>
    <child link="left_arm_itb"/>
  </joint>
  <joint name="left_w1" type="revolute">
    <origin rpy="-1.57079632679 -1.57079632679 0" xyz="0.01 0 0.2707"/>
    <axis xyz="0 0 1"/>
    <parent link="left_upper_forearm"/>
    <child link="left_lower_forearm"/>
    <limit effort="15.0" lower="-1.57079632679" upper="2.094" velocity="4.0"/>
    <dynamics damping="0.7" friction="0.0"/>
  </joint>
  <joint name="left_w2" type="revolute">
    <origin rpy="1.57079632679 0 1.57079632679" xyz="0.115975 0 0"/>
    <axis xyz="0 0 1"/>
    <parent link="left_lower_forearm"/>
    <child link="left_wrist"/>
    <limit effort="15.0" lower="-3.059" upper="3.059" velocity="4.0"/>
    <dynamics damping="0.7" friction="0.0"/>
  </joint>
  <joint name="left_hand" type="fixed">
    <origin rpy="0 0 0" xyz="0 0 0.11355"/>
    <axis xyz="0 0 1"/>
    <parent link="left_wrist"/>
    <child link="left_hand"/>
    <dynamics damping="0.7" friction="0.0"/>
  </joint>
  <joint name="left_hand_camera" type="fixed">
    <origin rpy="0 0 -1.57079633" xyz="0.03825 0.012 0.015355"/>
    <parent link="left_hand"/>
    <child link="left_hand_camera"/>
  </joint>
  <joint name="left_hand_camera_axis" type="fixed">
    <origin rpy="0 0 0" xyz="0.03825 0.012 0.015355"/>
    <parent link="left_hand"/>
    <child link="left_hand_camera_axis"/>
  </joint>
  <joint name="left_hand_range" type="fixed">
    <origin rpy="0 -1.57079632679 -1.57079632679" xyz="0.032 -0.020245 0.0288"/>
    <parent link="left_hand"/>
    <child link="left_hand_range"/>
  </joint>
  <joint name="left_hand_accelerometer" type="fixed">
    <origin rpy="0 0 0" xyz="0.00198 0.000133 -0.0146"/>
    <parent link="left_hand"/>
    <child link="left_hand_accelerometer"/>
  </joint>
  <joint name="left_gripper_base" type="fixed">
    <origin rpy="0 0 0" xyz="0 0 0"/>
    <parent link="left_hand"/>
    <child link="left_gripper_base"/>
  </joint>
  <joint name="left_endpoint" type="fixed">
    <origin rpy="0 0 0" xyz="0.0 0 0.025"/>
    <parent link="left_gripper_base"/>
    <child link="left_gripper"/>
  </joint>

  <!-- Transmissions -->

  <!-- Right Arm -->
  <transmission name="right_tran1">
    <type>transmission_interface/SimpleTransmission</type>
    <joint name="right_s0"/>
    <actuator name="right_motor1">
      <hardwareInterface>EffortJointInterface</hardwareInterface>
      <mechanicalReduction>1</mechanicalReduction>
    </actuator>
  </transmission>
  <transmission name="right_tran2">
    <type>transmission_interface/SimpleTransmission</type>
    <joint name="right_s1"/>
    <actuator name="right_motor2">
      <hardwareInterface>EffortJointInterface</hardwareInterface>
      <mechanicalReduction>1</mechanicalReduction>
    </actuator>
  </transmission>
  <transmission name="right_tran3">
    <type>transmission_interface/SimpleTransmission</type>
    <joint name="right_e0"/>
    <actuator name="right_motor3">
      <hardwareInterface>EffortJointInterface</hardwareInterface>
      <mechanicalReduction>1</mechanicalReduction>
    </actuator>
  </transmission>
  <transmission name="right_tran4">
    <type>transmission_interface/SimpleTransmission</type>
    <joint name="right_e1"/>
    <actuator name="right_motor4">
      <hardwareInterface>EffortJointInterface</hardwareInterface>
      <mechanicalReduction>1</mechanicalReduction>
    </actuator>
  </transmission>
  <transmission name="right_tran5">
    <type>transmission_interface/SimpleTransmission</type>
    <joint name="right_w0"/>
    <actuator name="right_motor5">
      <hardwareInterface>EffortJointInterface</hardwareInterface>
      <mechanicalReduction>1</mechanicalReduction>
    </actuator>
  </transmission>
  <transmission name="right_tran6">
    <type>transmission_interface/SimpleTransmission</type>
    <joint name="right_w1"/>
    <actuator name="right_motor6">
      <hardwareInterface>EffortJointInterface</hardwareInterface>
      <mechanicalReduction>1</mechanicalReduction>
    </actuator>
  </transmission>
  <transmission name="right_tran7">
    <type>transmission_interface/SimpleTransmission</type>
    <joint name="right_w2"/>
    <actuator name="right_motor7">
      <hardwareInterface>EffortJointInterface</hardwareInterface>
      <mechanicalReduction>1</mechanicalReduction>
    </actuator>
  </transmission>

  <!-- Left Arm -->
  <transmission name="left_tran1">
    <type>transmission_interface/SimpleTransmission</type>
    <joint name="left_s0"/>
    <actuator name="left_motor1">
      <hardwareInterface>EffortJointInterface</hardwareInterface>
      <mechanicalReduction>1</mechanicalReduction>
    </actuator>
  </transmission>
  <transmission name="left_tran2">
    <type>transmission_interface/SimpleTransmission</type>
    <joint name="left_s1"/>
    <actuator name="left_motor2">
      <hardwareInterface>EffortJointInterface</hardwareInterface>
      <mechanicalReduction>1</mechanicalReduction>
    </actuator>
  </transmission>
  <transmission name="left_tran3">
    <type>transmission_interface/SimpleTransmission</type>
    <joint name="left_e0"/>
    <actuator name="left_motor3">
      <hardwareInterface>EffortJointInterface</hardwareInterface>
      <mechanicalReduction>1</mechanicalReduction>
    </actuator>
  </transmission>
  <transmission name="left_tran4">
    <type>transmission_interface/SimpleTransmission</type>
    <joint name="left_e1"/>
    <actuator name="left_motor4">
      <hardwareInterface>EffortJointInterface</hardwareInterface>
      <mechanicalReduction>1</mechanicalReduction>
    </actuator>
  </transmission>
  <transmission name="left_tran5">
    <type>transmission_interface/SimpleTransmission</type>
    <joint name="left_w0"/>
    <actuator name="left_motor5">
      <hardwareInterface>EffortJointInterface</hardwareInterface>
      <mechanicalReduction>1</mechanicalReduction>
    </actuator>
  </transmission>
  <transmission name="left_tran6">
    <type>transmission_interface/SimpleTransmission</type>
    <joint name="left_w1"/>
    <actuator name="left_motor6">
      <hardwareInterface>EffortJointInterface</hardwareInterface>
      <mechanicalReduction>1</mechanicalReduction>
    </actuator>
  </transmission>
  <transmission name="left_tran7">
    <type>transmission_interface/SimpleTransmission</type>
    <joint name="left_w2"/>
    <actuator name="left_motor7">
      <hardwareInterface>EffortJointInterface</hardwareInterface>
      <mechanicalReduction>1</mechanicalReduction>
    </actuator>
  </transmission>

  <!-- Head -->
  <transmission name="head1">
    <type>transmission_interface/SimpleTransmission</type>
    <joint name="head_pan"/>
    <actuator name="head_motor1">
      <hardwareInterface>EffortJointInterface</hardwareInterface>
      <mechanicalReduction>1</mechanicalReduction>
    </actuator>
  </transmission>

  <!-- ros_control plugin -->
  <gazebo>
    <plugin name="baxter_ros_control" filename="libbaxter_gazebo_ros_control.so">
      <robotNamespace>/robot</robotNamespace>
    </plugin>
  </gazebo>

  <!-- Gazebo-Specific Link Properties -->
  <gazebo reference="torso">
    <selfCollide>true</selfCollide>
  </gazebo>
  <gazebo reference="head_pan">
    <implicitSpringDamper>1</implicitSpringDamper>
  </gazebo>
  <gazebo reference="right_s0">
    <implicitSpringDamper>1</implicitSpringDamper>
  </gazebo>
  <gazebo reference="right_s1">
    <implicitSpringDamper>1</implicitSpringDamper>
  </gazebo>
  <gazebo reference="right_e0">
    <implicitSpringDamper>1</implicitSpringDamper>
  </gazebo>
  <gazebo reference="right_e1">
    <implicitSpringDamper>1</implicitSpringDamper>
  </gazebo>
  <gazebo reference="right_w0">
    <implicitSpringDamper>1</implicitSpringDamper>
  </gazebo>
  <gazebo reference="right_w1">
    <implicitSpringDamper>1</implicitSpringDamper>
  </gazebo>
  <gazebo reference="right_w2">
    <implicitSpringDamper>1</implicitSpringDamper>
  </gazebo>
  <gazebo reference="left_s0">
    <implicitSpringDamper>1</implicitSpringDamper>
  </gazebo>
  <gazebo reference="left_s1">
    <implicitSpringDamper>1</implicitSpringDamper>
  </gazebo>
  <gazebo reference="left_e0">
    <implicitSpringDamper>1</implicitSpringDamper>
  </gazebo>
  <gazebo reference="left_e1">
    <implicitSpringDamper>1</implicitSpringDamper>
  </gazebo>
  <gazebo reference="left_w0">
    <implicitSpringDamper>1</implicitSpringDamper>
  </gazebo>
  <gazebo reference="left_w1">
    <implicitSpringDamper>1</implicitSpringDamper>
  </gazebo>
  <gazebo reference="left_w2">
    <implicitSpringDamper>1</implicitSpringDamper>
  </gazebo>
<gazebo reference="head_camera">
  <sensor name="head_camera" type="camera">
    <update_rate>30.0</update_rate>
    <camera name="head">
      <horizontal_fov>1.3962634</horizontal_fov>
      <image>
        <width>640</width>
        <height>400</height>
        <format>R8G8B8</format>
      </image>
      <clip>
        <near>0.02</near>
        <far>300</far>
      </clip>
      <noise>
        <type>gaussian</type>
        <mean>0.0</mean>
        <stddev>0.007</stddev>
      </noise>
    </camera>
    <plugin filename="libgazebo_ros_camera.so" name="camera_controller">
      <alwaysOn>true</alwaysOn>
      <updateRate>0.0</updateRate>
      <cameraName>head_camera</cameraName>
      <imageTopicName>image</imageTopicName>
      <cameraInfoTopicName>camera_info</cameraInfoTopicName>
      <frameName>head_camera</frameName>
      <hackBaseline>0.07</hackBaseline>
      <distortionK1>0.0</distortionK1>
      <distortionK2>0.0</distortionK2>
      <distortionK3>0.0</distortionK3>
      <distortionT1>0.0</distortionT1>
      <distortionT2>0.0</distortionT2>
      <robotNamespace>/cameras</robotNamespace>
    </plugin>
  </sensor>
</gazebo>
<gazebo reference="right_hand_camera">
  <sensor name="right_hand_camera" type="camera">
  <update_rate>30.0</update_rate>
    <camera name="head">
      <horizontal_fov>1.3962634</horizontal_fov>
      <image>
        <width>640</width>
        <height>400</height>
        <format>R8G8B8</format>
      </image>
      <clip>
        <near>0.02</near>
        <far>300</far>
      </clip>
      <noise>
        <type>gaussian</type>
        <mean>0.0</mean>
        <stddev>0.007</stddev>
      </noise>
    </camera>
    <plugin filename="libgazebo_ros_camera.so" name="camera_controller">
      <alwaysOn>true</alwaysOn>
      <updateRate>0.0</updateRate>
      <cameraName>right_hand_camera</cameraName>
      <imageTopicName>image</imageTopicName>
      <cameraInfoTopicName>camera_info</cameraInfoTopicName>
      <frameName>head_camera</frameName>
      <hackBaseline>0.07</hackBaseline>
      <distortionK1>0.0</distortionK1>
      <distortionK2>0.0</distortionK2>
      <distortionK3>0.0</distortionK3>
      <distortionT1>0.0</distortionT1>
      <distortionT2>0.0</distortionT2>
      <robotNamespace>/cameras</robotNamespace>
    </plugin>
  </sensor>
</gazebo>
<gazebo reference="left_hand_camera">
  <sensor name="left_hand_camera" type="camera">
    <update_rate>30.0</update_rate>
    <camera name="head">
      <horizontal_fov>1.3962634</horizontal_fov>
      <image>
        <width>800</width>
        <height>800</height>
        <format>R8G8B8</format>
      </image>
      <clip>
        <near>0.02</near>
        <far>300</far>
      </clip>
      <noise>
        <type>gaussian</type>
        <mean>0.0</mean>
        <stddev>0.007</stddev>
      </noise>
    </camera>
    <plugin filename="libgazebo_ros_camera.so" name="camera_controller">
      <alwaysOn>true</alwaysOn>
      <updateRate>0.0</updateRate>
      <cameraName>left_hand_camera</cameraName>
      <imageTopicName>image</imageTopicName>
      <cameraInfoTopicName>camera_info</cameraInfoTopicName>
      <frameName>head_camera</frameName>
      <hackBaseline>0.07</hackBaseline>
      <distortionK1>0.0</distortionK1>
      <distortionK2>0.0</distortionK2>
      <distortionK3>0.0</distortionK3>
      <distortionT1>0.0</distortionT1>
      <distortionT2>0.0</distortionT2>
      <robotNamespace>/cameras</robotNamespace>
    </plugin>
  </sensor>
</gazebo>
<gazebo reference="display">
  <visual>
    <plugin name="screen_video_controller" filename="libgazebo_ros_video.so">
      <height>600</height>
      <width>1024</width>
      <topicName>/robot/xdisplay</topicName>
    </plugin>
  </visual>
</gazebo>
<gazebo reference="sonar_ring">
  <sensor name="sonar" type="ray">
    <pose>0.0 0.0 0.0 0.0 0.0 0.0</pose>
    <ray>
      <scan>
        <horizontal>
           <samples>300</samples>
           <resolution>1.0</resolution>
           <min_angle>-3.14</min_angle>
           <max_angle>3.14</max_angle>
        </horizontal>
        <vertical>
          <samples>100</samples>
          <resolution>1.0</resolution>
          <min_angle>-0.5236</min_angle>
          <max_angle>0.5236</max_angle>
        </vertical>
      </scan>
      <range>
        <min>0.05</min>
        <max>50.0</max>
      </range>
    </ray>
    <plugin name="sonar_plugin" filename="libgazebo_ros_block_laser.so">
      <gaussianNoise>0.00</gaussianNoise>
      <alwaysOn>true</alwaysOn>
      <updateRate>20</updateRate>
      <topicName>/robot/sonar/head_sonar/state</topicName>
      <frameName>base</frameName>
    </plugin>
    <always_on>true</always_on>
    <update_rate>10.0</update_rate>
  </sensor>
</gazebo>
<gazebo reference="right_hand_range">
  <sensor name="ir_right" type="ray">
    <pose>0.0 0.0 0.0 0.0 0.0 0.0</pose>
    <ray>
      <scan>
        <horizontal>
          <samples>641</samples>
          <resolution>1.0</resolution>
          <min_angle>-0.5</min_angle>
          <max_angle>0.5</max_angle>
        </horizontal>
      </scan>
      <range>
        <min>0.004</min>
        <max>0.4</max>
      </range>
    </ray>
    <plugin name="plugin_3" filename="libgazebo_ros_laser.so">
      <gaussianNoise>0.005</gaussianNoise>
      <alwaysOn>true</alwaysOn>
      <updateRate>20</updateRate>
      <topicName>/robot/laserscan/right_hand_range/state</topicName>
      <frameName>base</frameName>
    </plugin>
    <always_on>true</always_on>
    <update_rate>2.0</update_rate>
  </sensor>
</gazebo>
<gazebo reference="left_hand_range">
  <sensor name="ir_left" type="ray">
    <pose>0.0 0.0 0.0 0.0 0.0 0.0</pose>
    <ray>
      <scan>
        <horizontal>
          <samples>641</samples>
          <resolution>1.0</resolution>
          <min_angle>-0.5</min_angle>
          <max_angle>0.5</max_angle>
        </horizontal>
      </scan>
      <range>
        <min>0.004</min>
        <max>0.4</max>
      </range>
    </ray>
    <plugin name="plugin_4" filename="libgazebo_ros_laser.so">
      <gaussianNoise>0.005</gaussianNoise>
      <alwaysOn>true</alwaysOn>
      <updateRate>20</updateRate>
      <topicName>/robot/laserscan/left_hand_range/state</topicName>
      <frameName>base</frameName>
    </plugin>
    <always_on>true</always_on>
    <update_rate>2.0</update_rate>
  </sensor>
</gazebo>
</robot>
